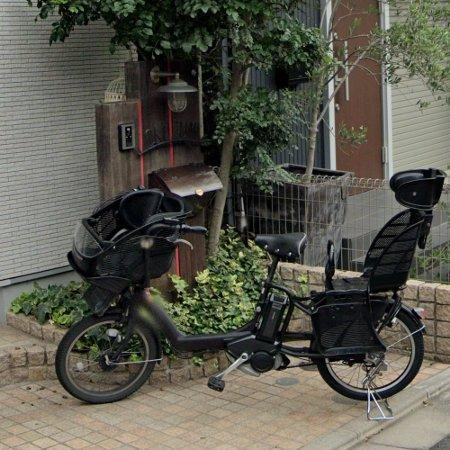bicycles: (56, 169, 444, 404)
